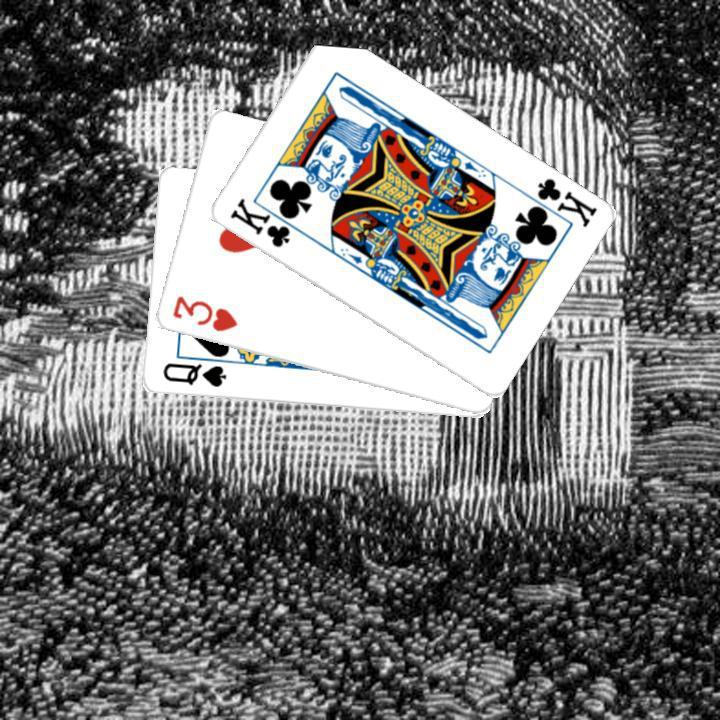3: (168, 291, 239, 334)
K: (225, 193, 305, 250), (518, 173, 598, 230)
Q: (158, 359, 228, 390)
